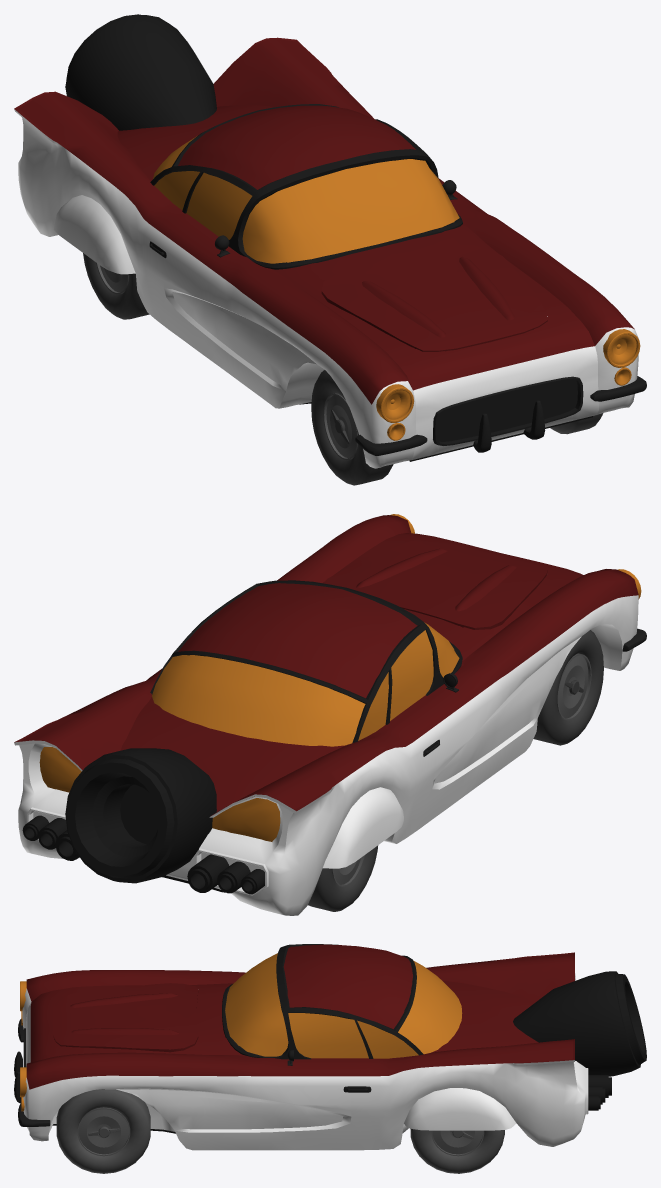
3 views of the same model, one above another, from view 1: azimuth 30°, elevation 25°; view 2: azimuth 150°, elevation 25°; view 3: azimuth 270°, elevation 25° (orthographic). The views are drawn at different scales.
Visible parts, largest first — view 1: body2 (×2), Windshield, HoodDetail, MainThruster, Roof, Grill, WindowFrames, TrunkBody, BigSideWindow, Tire3, Tire4, Rim3 (+7 smaller); view 2: body2 (×2), MainThruster, Roof, BackWindow, HoodDetail, TrunkBody, WindowFrames, Tire3, BigSideWindow, rear_light, Tire4, Rim3 (+8 smaller); view 3: body2 (×2), MainThruster, Roof, HoodDetail, Tire1, Windshield, TrunkBody, BackWindow, BigSideWindow, WindowFrames, Tire2, Rim1 (+5 smaller).
Part boxes in pixels (x1,y1,x2,y2): body2 (×2): (14,37,638,468); Windshield: (242,159,459,263); HoodDetail: (321,245,547,351); MainThruster: (65,14,216,130); Roof: (178,105,415,189); Grill: (433,376,583,445); WindowFrames: (150,104,462,269); TrunkBody: (117,105,275,180); BigSideWindow: (186,172,252,239); Tire3: (311,370,393,485); Tire4: (83,253,149,319); Rim3: (323,393,357,460); body2 (×2): (14,515,638,915); MainThruster: (65,748,216,883); Roof: (178,583,417,698); BackWindow: (152,655,365,746); HoodDetail: (323,540,547,629); TrunkBody: (121,697,345,811); WindowFrames: (150,580,462,742); Tire3: (533,630,603,745); BigSideWindow: (390,630,433,720); rear_light: (212,798,280,841); Tire4: (308,845,378,911); Rim3: (557,654,591,720); body2 (×2): (22,952,588,1150); MainThruster: (513,971,646,1076); Roof: (283,944,412,1029); HoodDetail: (53,983,198,1052); Tire1: (56,1089,150,1173); Windshield: (225,953,288,1056); TrunkBody: (431,981,538,1052); BackWindow: (398,960,462,1054); BigSideWindow: (288,1013,368,1058); WindowFrames: (222,944,423,1059); Tire2: (410,1128,504,1173); Rim1: (77,1108,130,1156).
Size of the model in its own units: 0.8411 by 0.5872 by 2.
